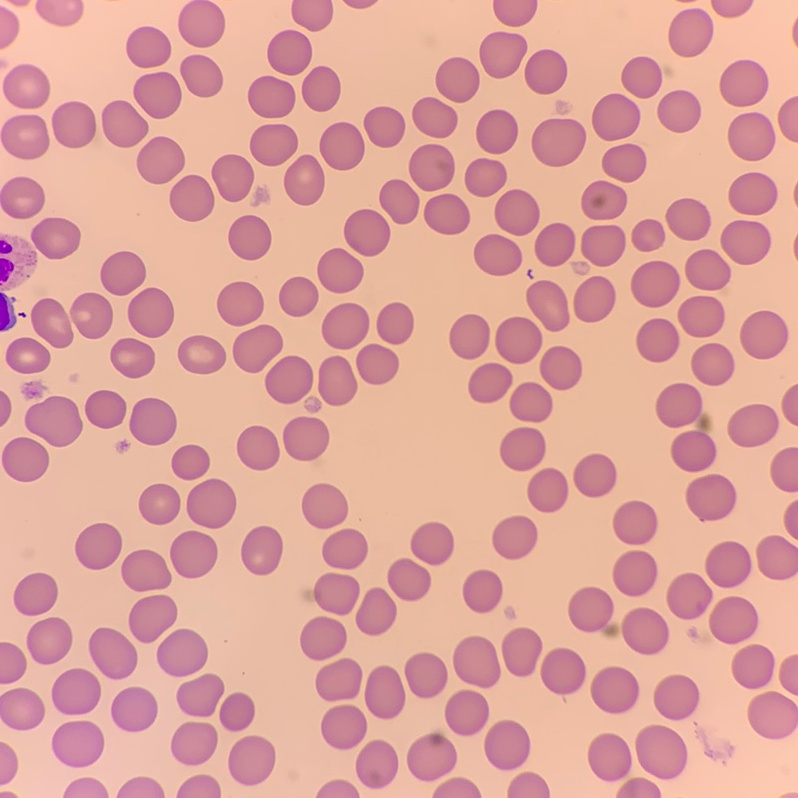RBC: (569, 587, 668, 654), (656, 383, 715, 471), (588, 733, 660, 797), (25, 396, 82, 446), (636, 725, 686, 779), (532, 119, 585, 166), (407, 731, 456, 780), (89, 628, 136, 678), (157, 629, 207, 676), (453, 636, 499, 687), (302, 573, 359, 614), (187, 479, 235, 527), (233, 325, 282, 372), (748, 691, 797, 738), (53, 721, 103, 766), (740, 311, 787, 358), (265, 356, 312, 403), (129, 595, 176, 642), (720, 60, 768, 106), (709, 597, 757, 643), (128, 288, 173, 337), (686, 474, 735, 519), (178, 0, 224, 47), (134, 72, 181, 118), (592, 94, 639, 140), (728, 113, 774, 160), (137, 137, 184, 183), (591, 667, 638, 713), (631, 261, 679, 306), (52, 669, 100, 714), (229, 736, 274, 784), (721, 220, 770, 264), (485, 720, 529, 769), (322, 303, 368, 349), (495, 317, 541, 363), (130, 398, 176, 444), (75, 523, 121, 569), (170, 531, 216, 577), (479, 32, 526, 77), (1, 115, 49, 159), (728, 404, 778, 446), (102, 101, 147, 147), (409, 144, 454, 190), (667, 573, 712, 619), (526, 281, 568, 330), (365, 666, 404, 718), (344, 210, 389, 255), (3, 64, 49, 108), (320, 123, 364, 169), (2, 437, 48, 481), (27, 617, 71, 663), (541, 648, 585, 694), (669, 9, 712, 56), (52, 102, 96, 147), (302, 484, 347, 528), (706, 542, 750, 587), (654, 675, 699, 719), (112, 687, 157, 731), (321, 705, 366, 749), (217, 282, 263, 325), (613, 550, 656, 596), (31, 299, 72, 347), (241, 526, 282, 574), (122, 550, 170, 591), (356, 740, 397, 788), (284, 155, 324, 204), (436, 57, 479, 102), (170, 175, 213, 220), (495, 190, 538, 235), (283, 417, 328, 460), (500, 427, 545, 470), (445, 690, 488, 735), (177, 674, 223, 716), (171, 722, 217, 764), (250, 124, 297, 165), (729, 173, 776, 214), (268, 30, 311, 74), (318, 249, 362, 292), (101, 252, 145, 295), (301, 617, 346, 659), (316, 658, 361, 700), (248, 76, 294, 117), (212, 155, 253, 201), (32, 218, 79, 258), (474, 235, 521, 275), (502, 628, 541, 676), (318, 356, 356, 405), (613, 501, 656, 544), (492, 516, 536, 558), (574, 276, 615, 321), (71, 293, 112, 338), (678, 296, 724, 336), (356, 588, 396, 634), (0, 235, 36, 286), (657, 90, 700, 132), (14, 573, 57, 615), (732, 645, 774, 688), (0, 177, 44, 218), (666, 199, 710, 240), (229, 215, 270, 259), (405, 653, 446, 697), (424, 194, 469, 234), (685, 249, 730, 289), (322, 529, 367, 569), (178, 335, 225, 373), (573, 454, 615, 496), (411, 522, 453, 564), (388, 558, 430, 600), (525, 50, 566, 93), (476, 110, 517, 153), (540, 346, 581, 389), (237, 426, 278, 469), (0, 688, 43, 729), (581, 225, 625, 265), (180, 55, 222, 96), (637, 319, 678, 361), (692, 343, 733, 385), (127, 27, 170, 67), (757, 536, 797, 579), (413, 98, 457, 137), (450, 314, 489, 358), (468, 363, 512, 402), (528, 468, 567, 512), (356, 344, 398, 384), (111, 338, 154, 377), (302, 67, 340, 111), (582, 181, 626, 219), (535, 223, 574, 265), (510, 382, 552, 421), (463, 570, 502, 612), (380, 180, 418, 223), (364, 107, 404, 147), (139, 484, 179, 524), (602, 144, 645, 181), (622, 57, 661, 97), (465, 159, 506, 196), (279, 277, 317, 316), (85, 390, 125, 427), (377, 303, 413, 343), (7, 338, 49, 372), (172, 445, 209, 479), (220, 693, 254, 730), (292, 0, 332, 30), (36, 0, 82, 25), (493, 0, 537, 26), (771, 448, 797, 491), (0, 642, 26, 683), (632, 220, 664, 251), (508, 773, 549, 797), (177, 775, 220, 797), (118, 777, 163, 797), (434, 777, 479, 797), (778, 97, 797, 141), (65, 778, 107, 797), (0, 7, 18, 47), (779, 655, 797, 694), (317, 780, 358, 797), (711, 0, 751, 17), (0, 743, 16, 783), (0, 293, 15, 330), (782, 386, 797, 423), (784, 502, 797, 537), (23, 381, 42, 397), (0, 393, 10, 423), (305, 397, 320, 411), (347, 0, 373, 8), (255, 188, 267, 201), (574, 262, 587, 273), (556, 101, 567, 113), (13, 0, 27, 5), (118, 442, 126, 450), (793, 26, 797, 39), (0, 793, 12, 797), (789, 793, 797, 797)
